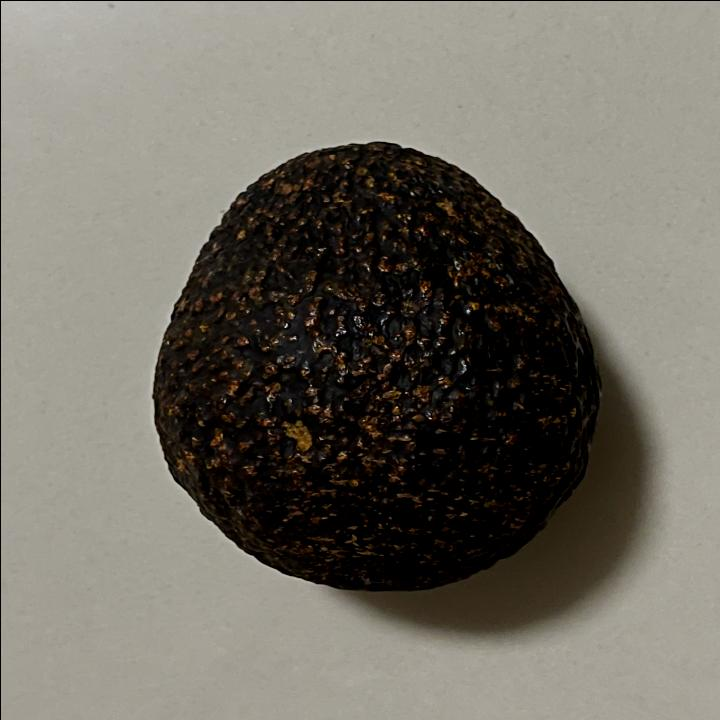Level3: (139, 130, 608, 597)
